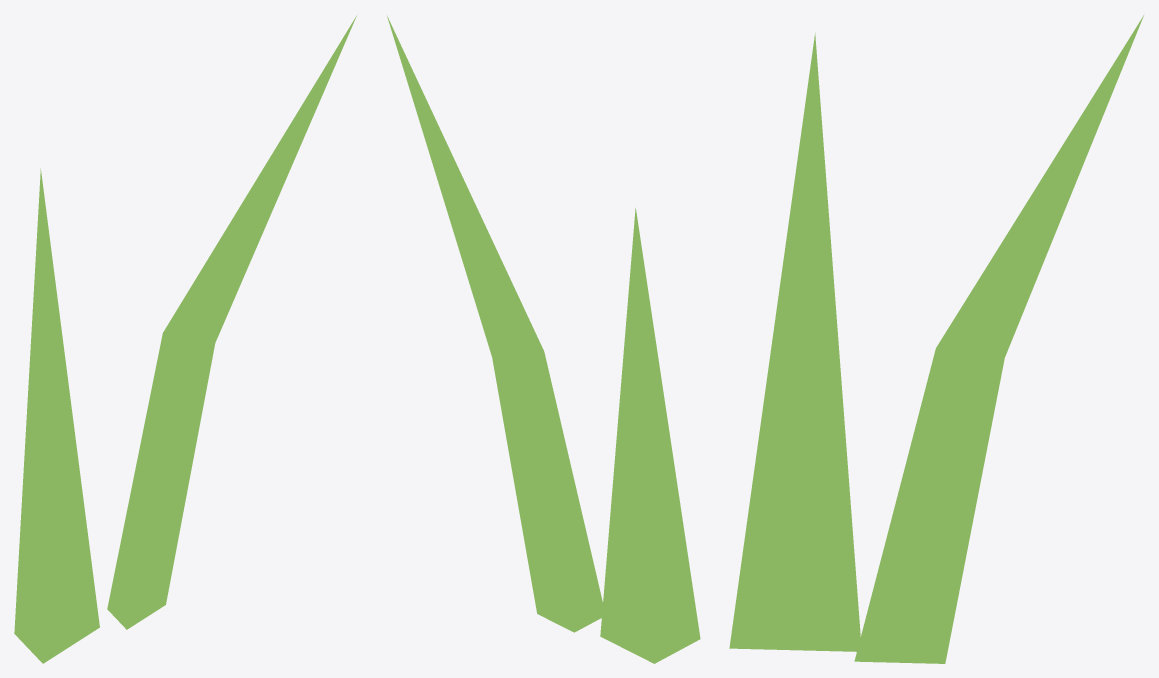
File: Grass3D_a_01.fbx
3 views of the same model, side by side, from view 1: azimuth 30°, elevation 25°; view 2: azimuth 150°, elevation 25°; view 3: azimuth 330°, elevation 25° (orthographic). The views are drawn at different scales.
Visible parts, largest first — view 1: Grass3D_a_01; view 2: Grass3D_a_01; view 3: Grass3D_a_01.
Part boxes in pixels (left/top/right/bottom): Grass3D_a_01: left=14, top=15, right=356, bottom=663; Grass3D_a_01: left=387, top=16, right=700, bottom=663; Grass3D_a_01: left=729, top=14, right=1144, bottom=663.
Bounding box in the file's own units: 0.2705 × 0.4611 × 0.0559.
